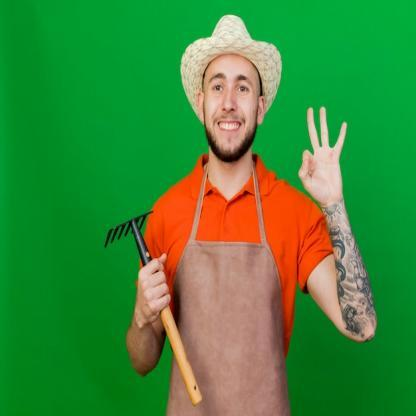ok: (298, 101, 350, 212)
